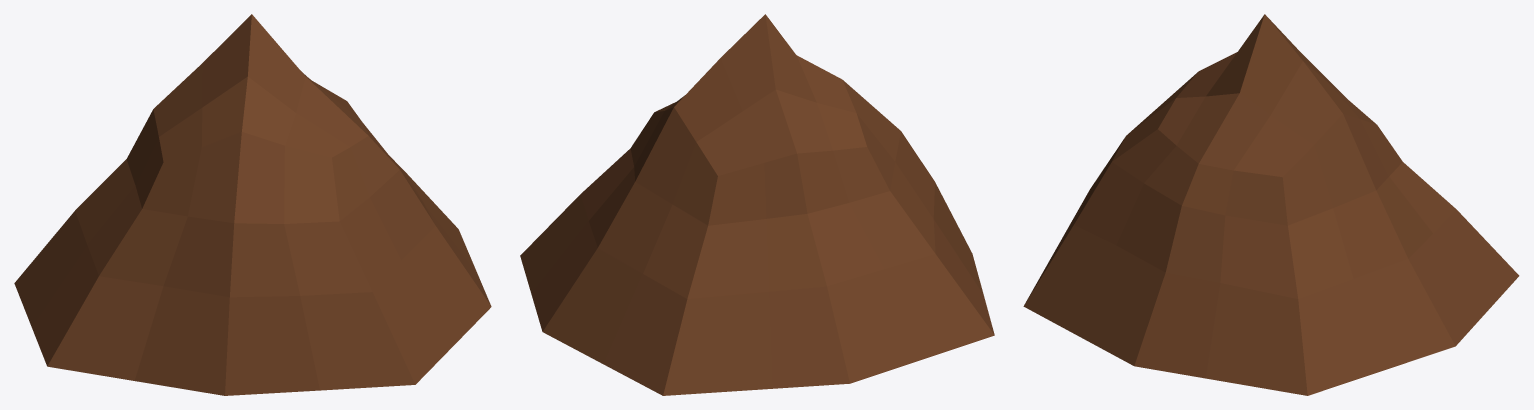
The model's file is mont4.gltf.
3 views of the same model, side by side, from view 1: azimuth 30°, elevation 25°; view 2: azimuth 150°, elevation 25°; view 3: azimuth 270°, elevation 25° (orthographic). The views are drawn at different scales.
Visible parts, largest first — view 1: Cube.008; view 2: Cube.008; view 3: Cube.008.
Part boxes in pixels (left/top/right/bottom): Cube.008: left=14, top=14, right=491, bottom=395; Cube.008: left=520, top=14, right=994, bottom=395; Cube.008: left=1023, top=14, right=1519, bottom=395.
Bounding box in the file's own units: 8.41 × 5.15 × 8.41.
